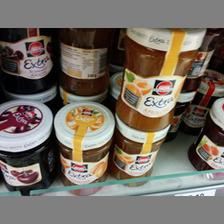Marmelade: (114, 26, 206, 130), (54, 101, 114, 195), (0, 98, 52, 194), (110, 113, 170, 187), (1, 27, 56, 93), (58, 28, 110, 96), (187, 97, 223, 171)
